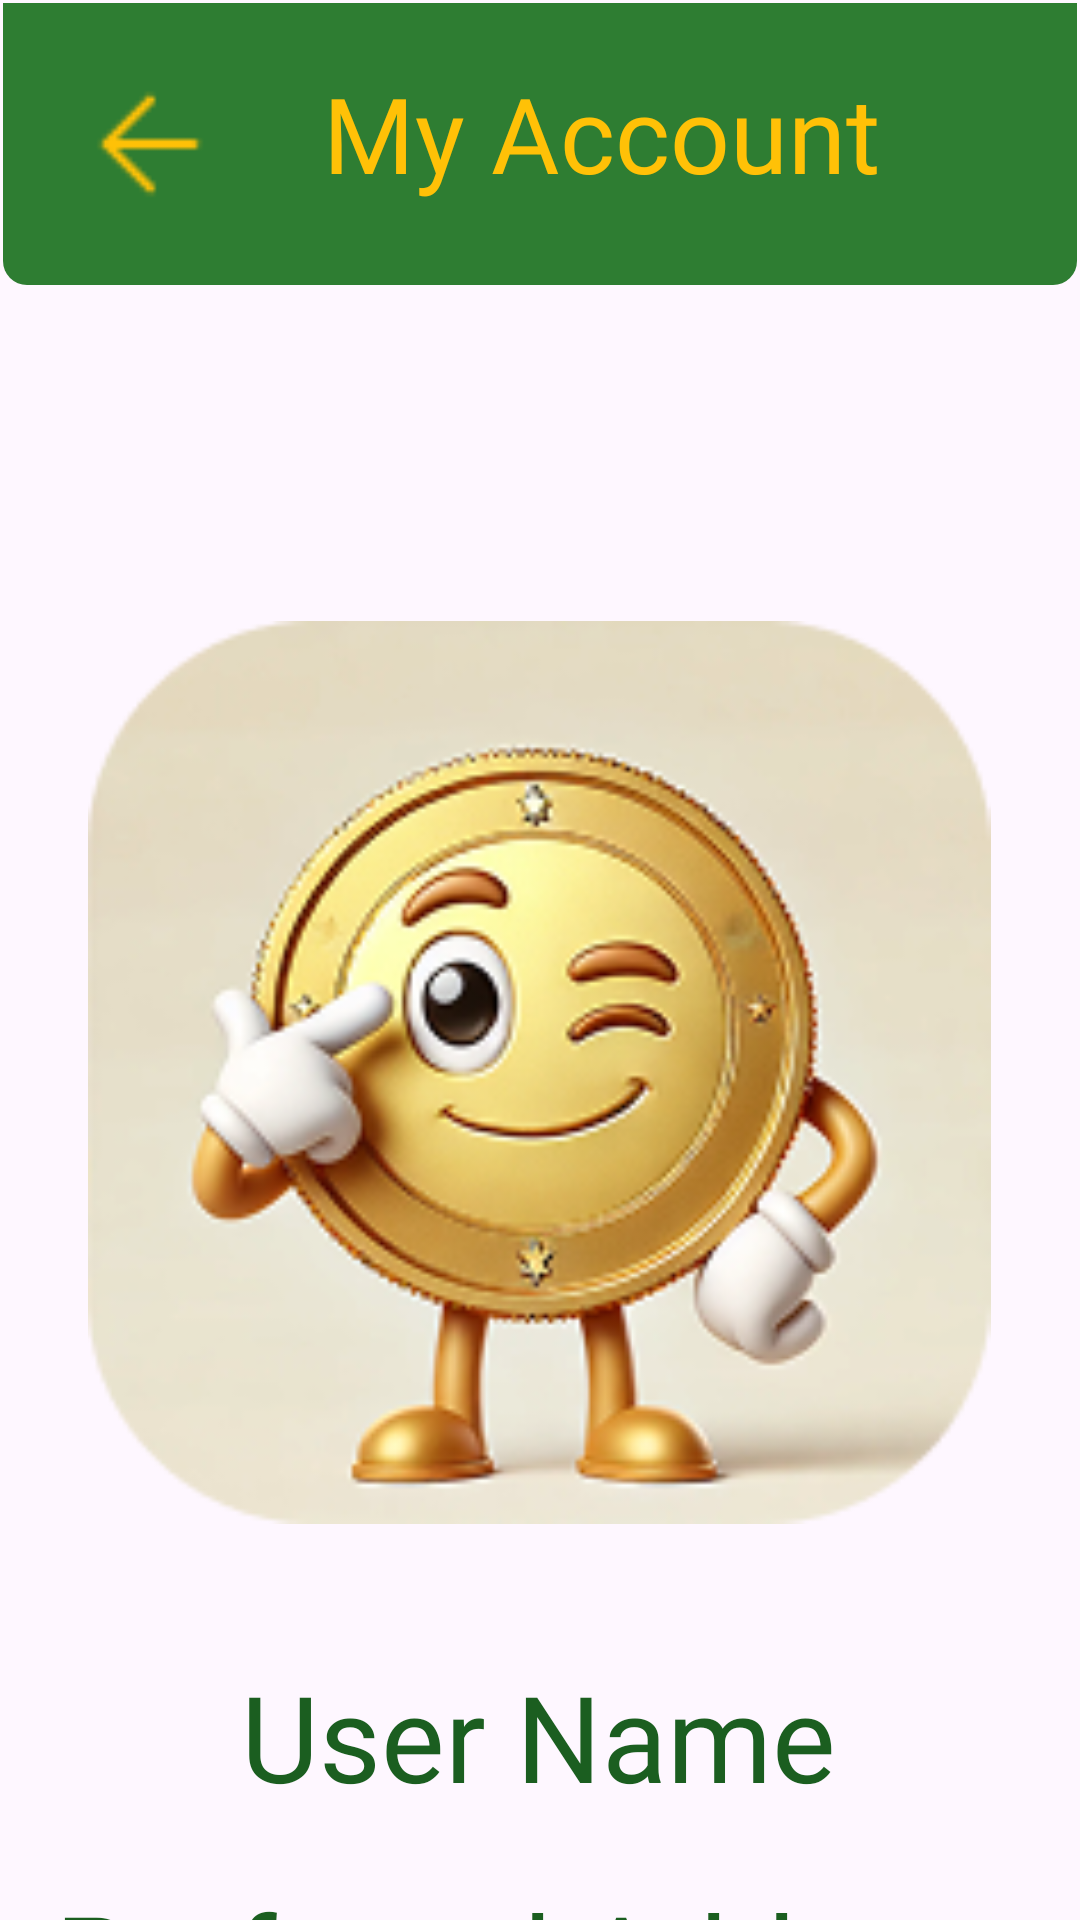

Icons on this 1080x1920 Android screen, each with its box as (x1, y1, x2, y2):
arrow left: (99, 93, 201, 195)
